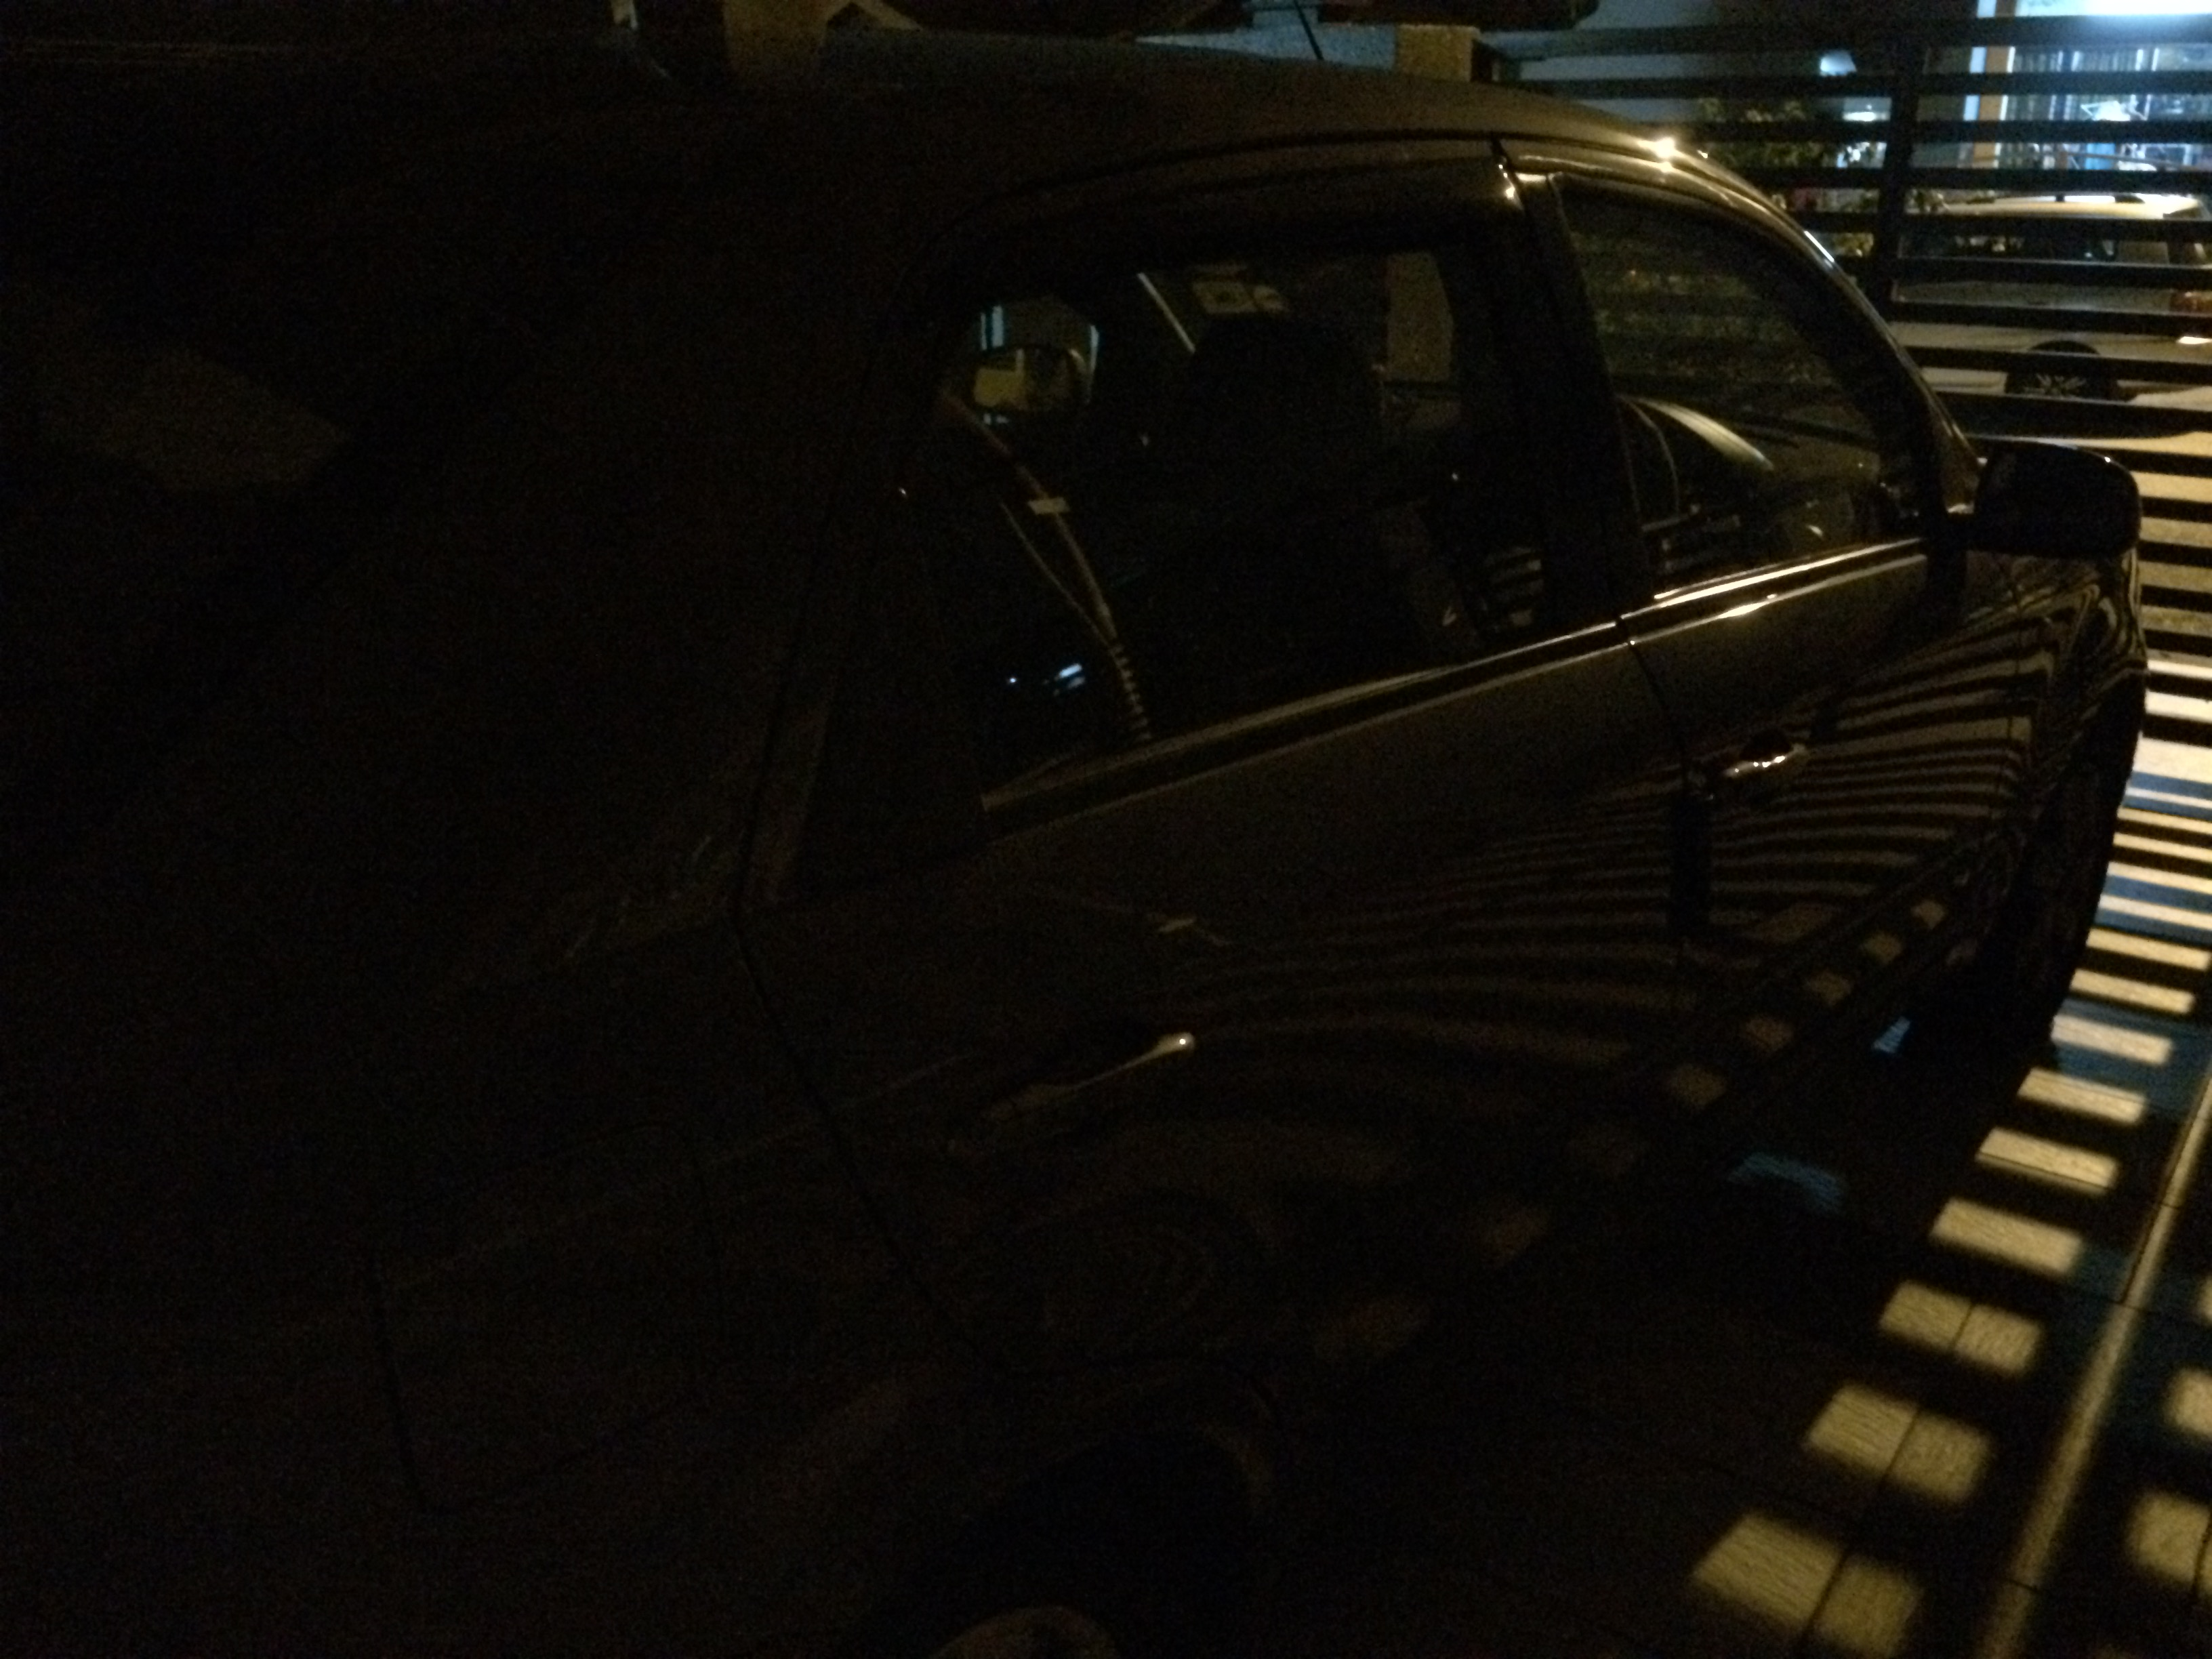car: (1787, 171, 2203, 429)
